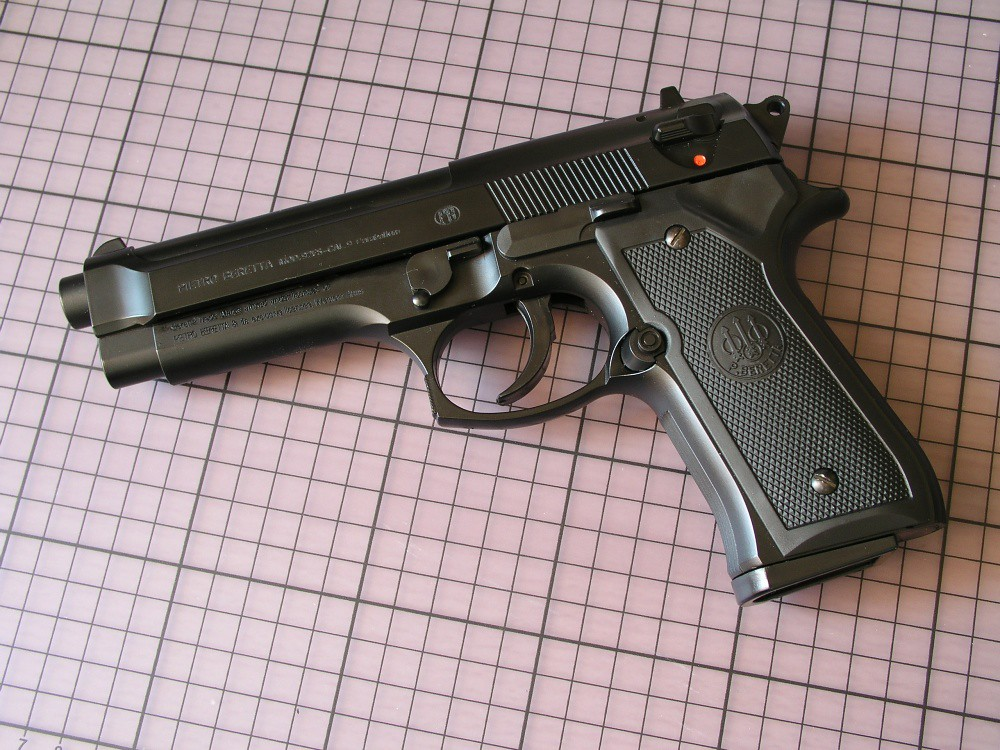gun: (46, 66, 960, 659)
